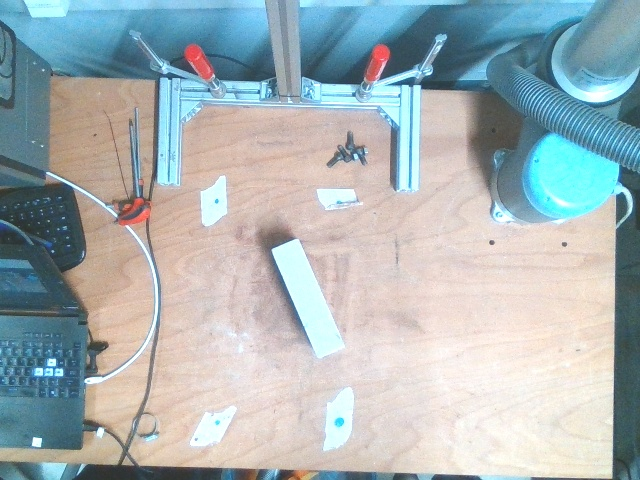brick-side: (271, 237, 344, 357)
